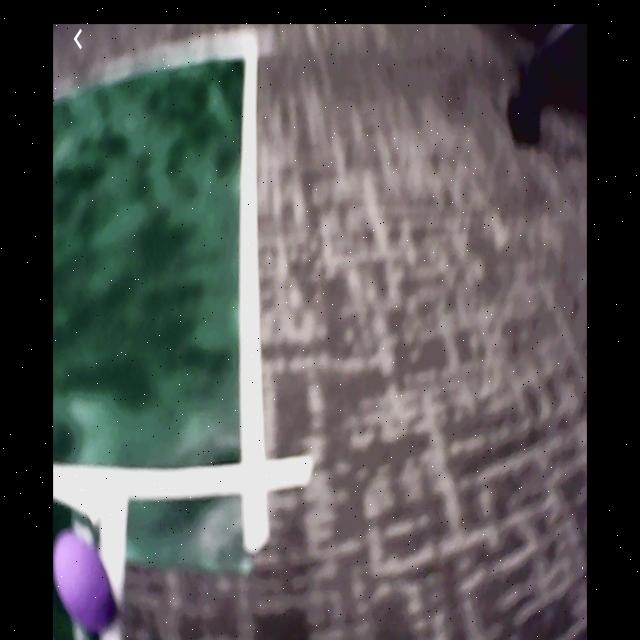ball: (54, 530, 115, 634)
